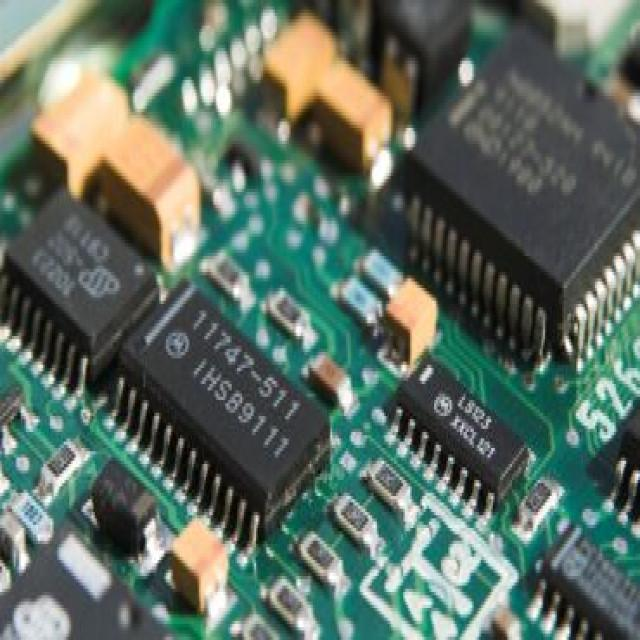pcb: (0, 0, 638, 637), (400, 19, 638, 371), (382, 342, 530, 516)
